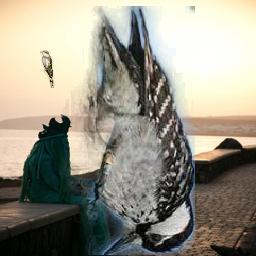Cuckoo: (40, 50, 54, 88)
Woodpecker: (59, 7, 195, 256)
